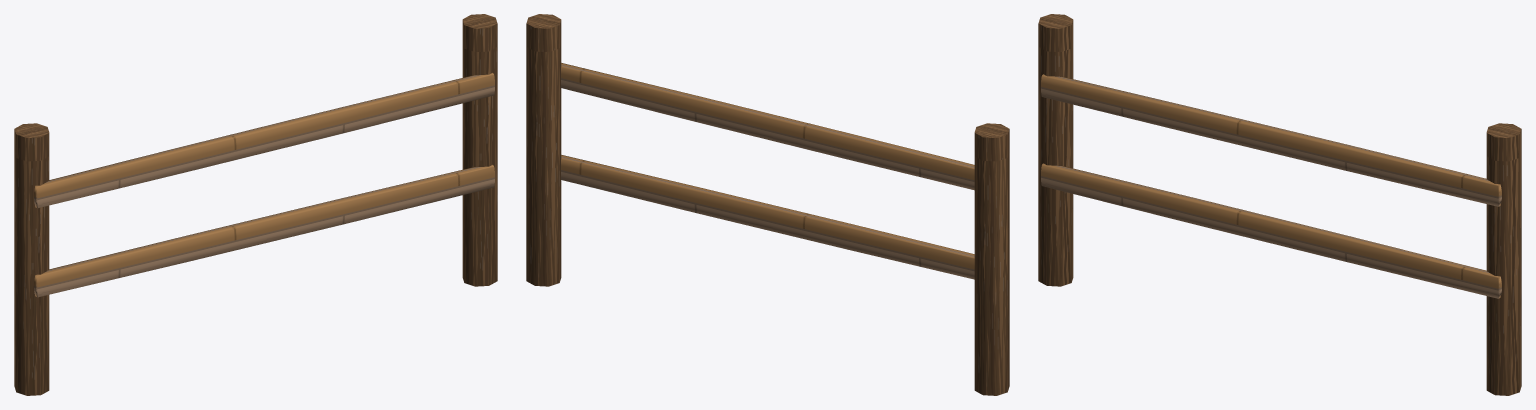
Rendered from fence_wood_rail.glb.
The picture shows the model from 3 angles, left to right: view 1: azimuth 30°, elevation 25°; view 2: azimuth 150°, elevation 25°; view 3: azimuth 330°, elevation 25°; orthographic projection.
Visible parts, largest first — view 1: fence_rail, fence_rail_log; view 2: fence_rail, fence_rail_log; view 3: fence_rail, fence_rail_log.
Part boxes in pixels (left/top/right/bottom): fence_rail: left=34, top=73, right=494, bottom=297; fence_rail_log: left=14, top=14, right=497, bottom=395; fence_rail: left=561, top=63, right=974, bottom=279; fence_rail_log: left=526, top=14, right=1009, bottom=395; fence_rail: left=1041, top=74, right=1501, bottom=298; fence_rail_log: left=1038, top=14, right=1521, bottom=395.
Size of the model in its own units: 2.14 by 1.1 by 0.155.
2 materials, 2 textured.
